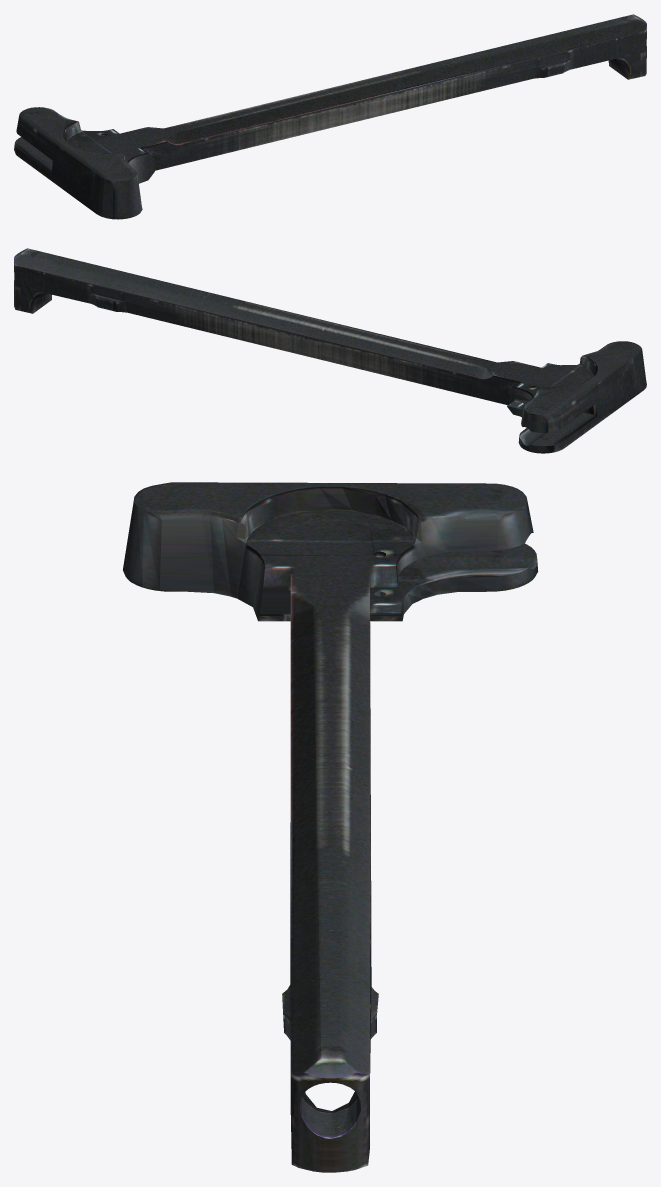
File: Charging_Handle.dae
3 renders of one model, top to bottom at view 1: azimuth 30°, elevation 25°; view 2: azimuth 150°, elevation 25°; view 3: azimuth 270°, elevation 25°, orthographic. The views are drawn at different scales.
Visible parts, largest first — view 1: Charging_Handle; view 2: Charging_Handle; view 3: Charging_Handle.
Boxes of the visible parts, left/top/right/bottom form: Charging_Handle: left=14, top=14, right=646, bottom=219; Charging_Handle: left=14, top=248, right=646, bottom=453; Charging_Handle: left=123, top=482, right=538, bottom=1172.
Size of the model in its own units: 0.1691 by 0.0519 by 0.0173.
Materials: 1 (1 with a texture image).
